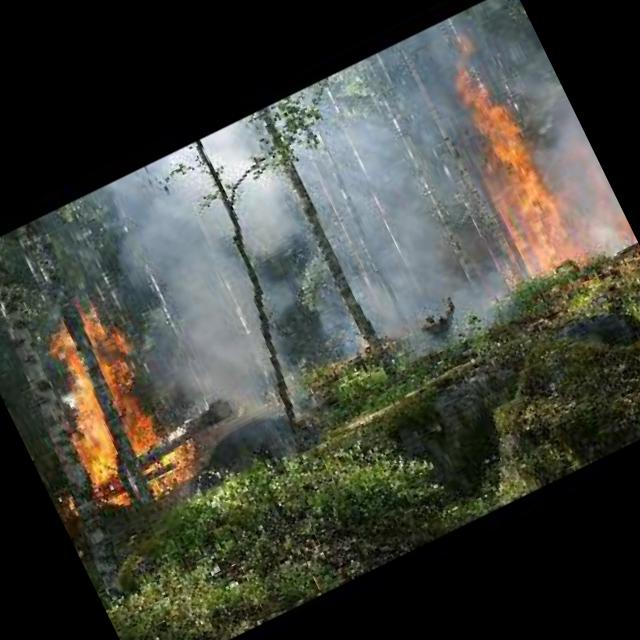fire: (385, 0, 640, 320), (0, 266, 215, 548)
smoke: (482, 26, 624, 240)
